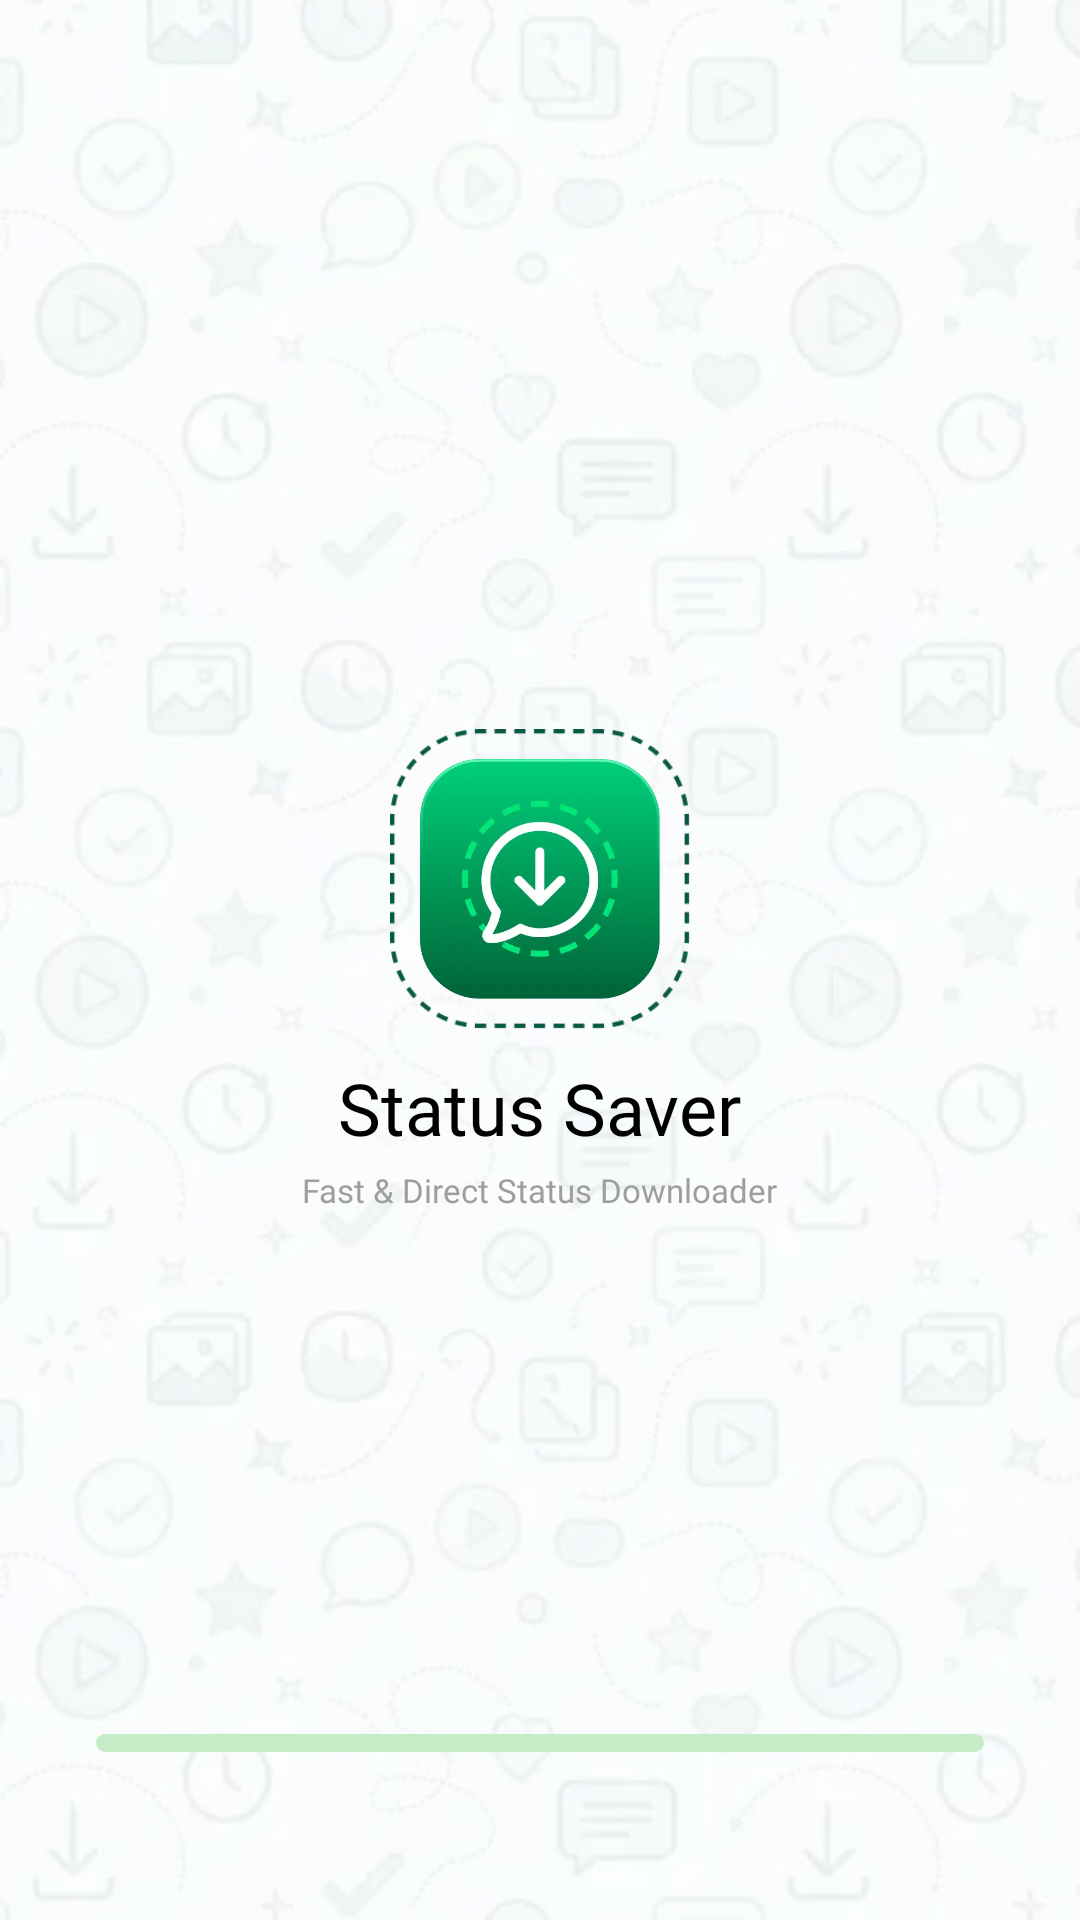

Where to tap for icons on this 1080px x 1920px app screen, as point (x, y):
App icon: point (540, 879)
